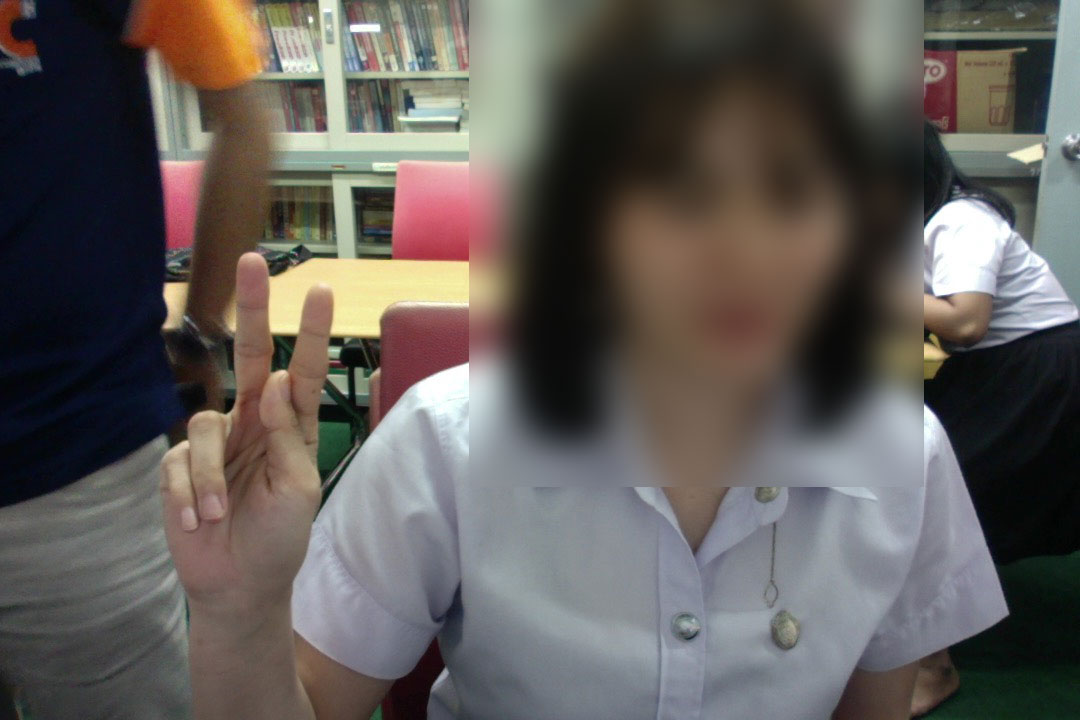ko: (144, 242, 362, 629)
